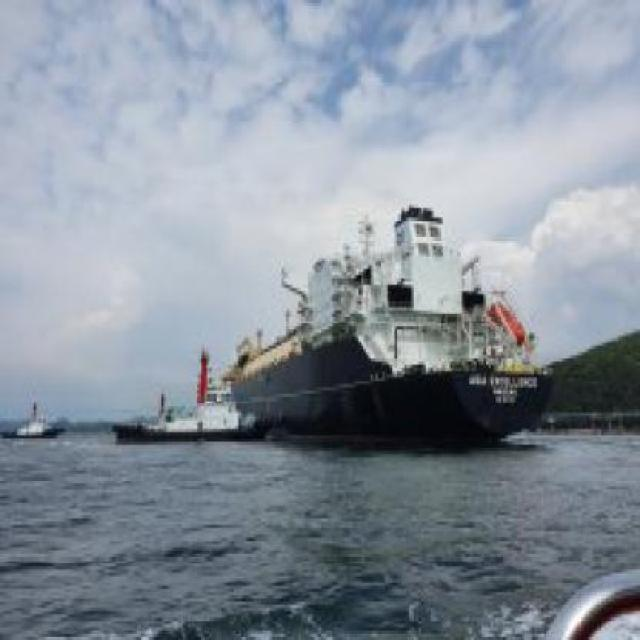fish-b: (213, 199, 564, 472)
